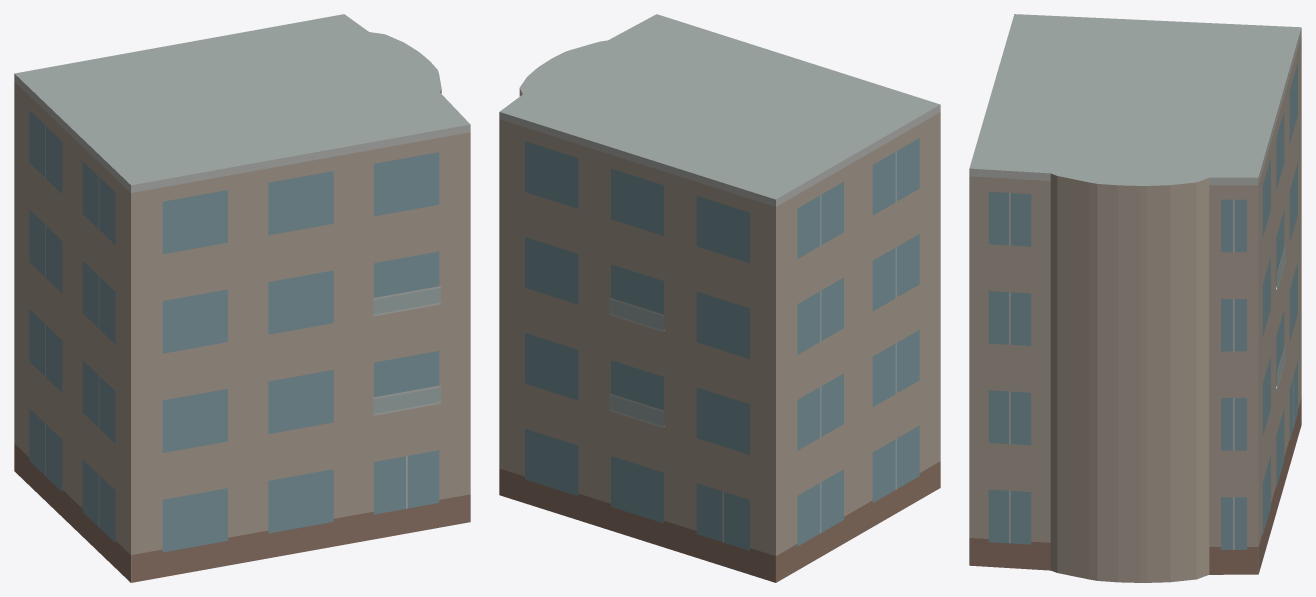
The model's file is survey-upis-33036362.glb.
The picture shows the model from 3 angles, left to right: view 1: azimuth 30°, elevation 25°; view 2: azimuth 150°, elevation 25°; view 3: azimuth 270°, elevation 25°; orthographic projection. The views are drawn at different scales.
Parts seen in each view (by area): view 1: survey-upis-33036362.tmp; view 2: survey-upis-33036362.tmp; view 3: survey-upis-33036362.tmp.
Boxes of the visible parts, x1=… form: survey-upis-33036362.tmp: x1=14, y1=14, x2=470, y2=582; survey-upis-33036362.tmp: x1=499, y1=14, x2=940, y2=582; survey-upis-33036362.tmp: x1=969, y1=14, x2=1301, y2=582.
Size of the model in its own units: 11.7 by 12.6 by 9.57.
